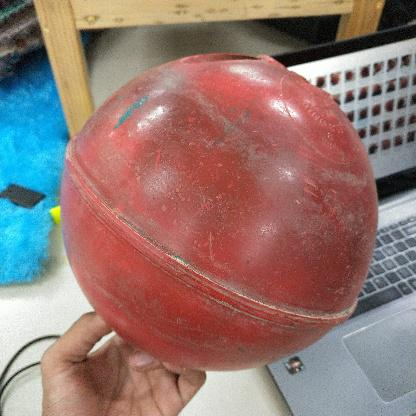red_buoy: (60, 52, 379, 374)
